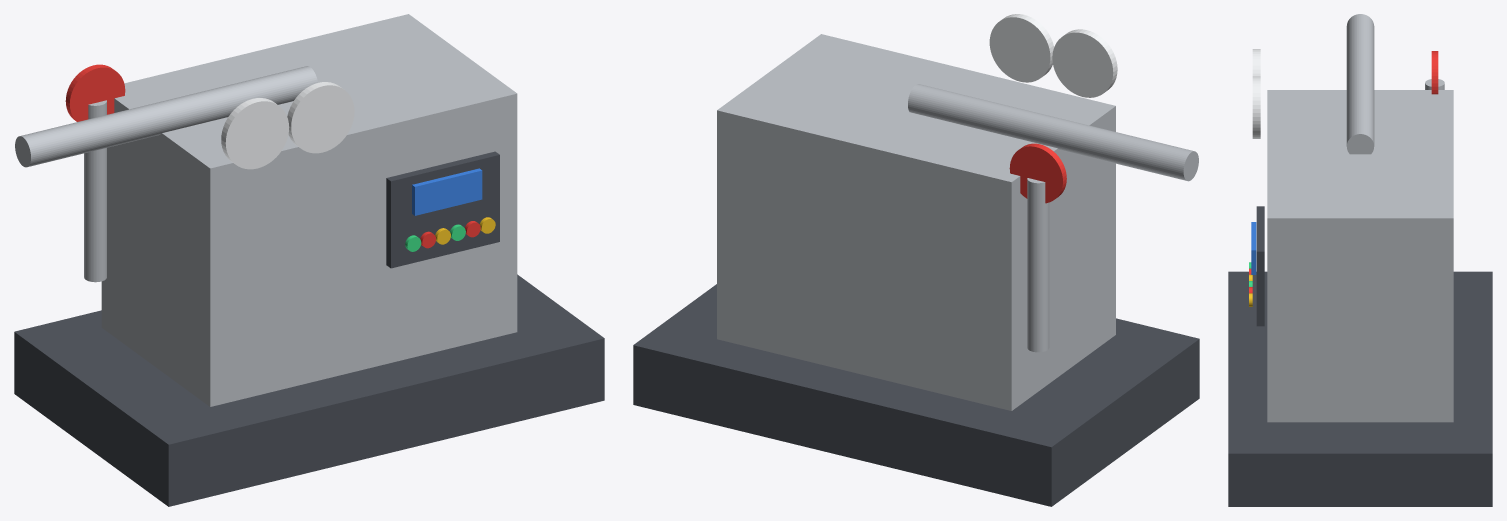
File: asset_core_analyzer.glb
3 views of the same model, side by side, from view 1: azimuth 30°, elevation 25°; view 2: azimuth 150°, elevation 25°; view 3: azimuth 270°, elevation 25° (orthographic). The views are drawn at different scales.
Parts seen in each view (by area): view 1: cabinet, base, top_pipe, ctrl_panel, gauge_left, gauge_right, vertical_pipe, ctrl_screen, valve_wheel; view 2: cabinet, base, top_pipe, vertical_pipe, gauge_left, gauge_right, valve_wheel; view 3: cabinet, base, top_pipe, ctrl_panel, gauge_right, valve_wheel, ctrl_screen.
Boxes of the visible parts, <box> form: cabinet: <box>101,14,517,406</box>; base: <box>14,274,604,506</box>; top_pipe: <box>15,66,317,167</box>; ctrl_panel: <box>386,151,499,268</box>; gauge_left: <box>221,98,289,169</box>; gauge_right: <box>287,82,354,153</box>; vertical_pipe: <box>84,100,106,282</box>; ctrl_screen: <box>412,168,482,215</box>; valve_wheel: <box>65,64,125,121</box>; cabinet: <box>717,34,1115,410</box>; base: <box>633,284,1199,506</box>; top_pipe: <box>908,84,1198,181</box>; vertical_pipe: <box>1027,178,1049,352</box>; gauge_left: <box>1052,29,1117,97</box>; gauge_right: <box>989,14,1053,82</box>; valve_wheel: <box>1009,143,1066,203</box>; cabinet: <box>1267,90,1453,422</box>; base: <box>1228,271,1492,506</box>; top_pipe: <box>1346,14,1374,154</box>; ctrl_panel: <box>1256,206,1264,326</box>; gauge_right: <box>1252,76,1260,138</box>; valve_wheel: <box>1431,51,1438,94</box>; ctrl_screen: <box>1251,222,1256,274</box>.
Bounding box in the file's own units: 2.55 × 1.78 × 1.35.
